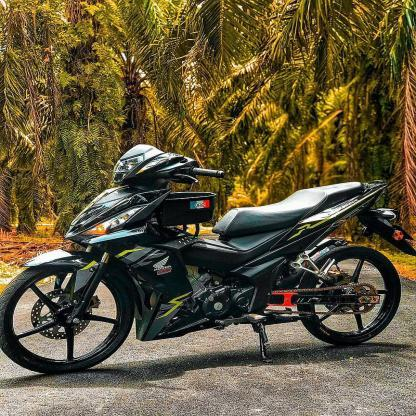Motorcycle: (2, 138, 414, 377)
